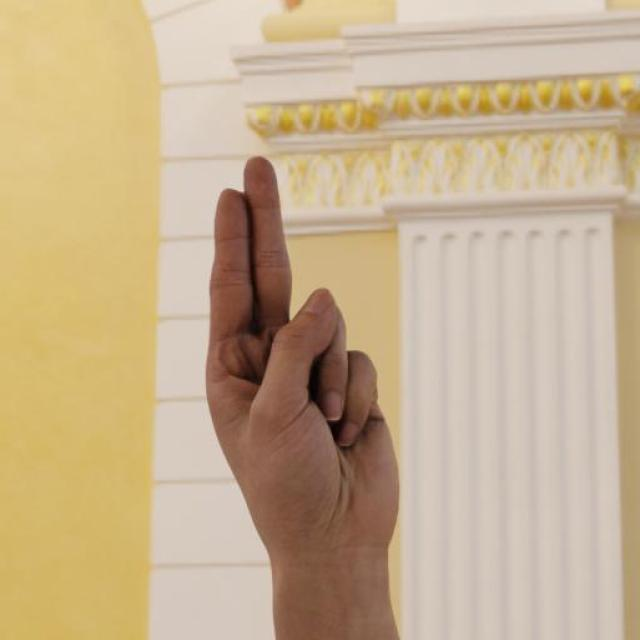U: (204, 151, 400, 588)
